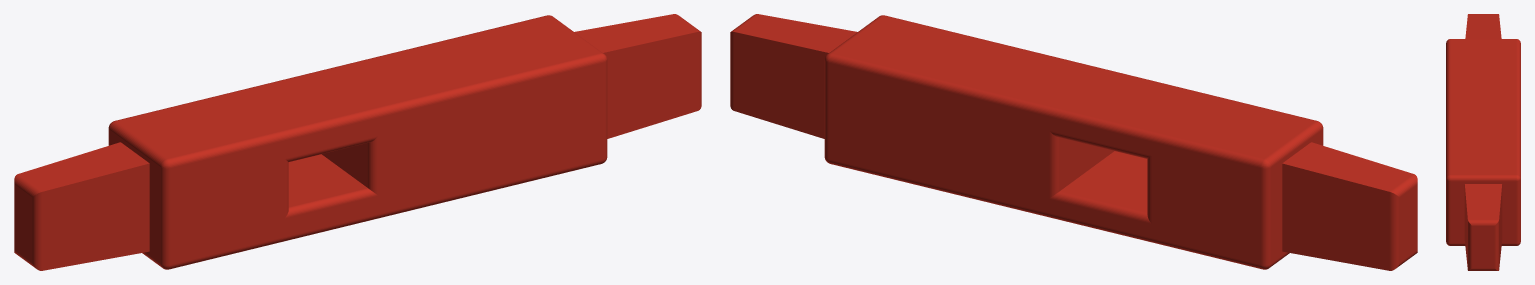
The model's file is beam_3x_part_2.obj.
The picture shows the model from 3 angles, left to right: view 1: azimuth 30°, elevation 25°; view 2: azimuth 150°, elevation 25°; view 3: azimuth 270°, elevation 25°; orthographic projection. The views are drawn at different scales.
Parts seen in each view (by area): view 1: beam_3x_part_2; view 2: beam_3x_part_2; view 3: beam_3x_part_2.
Boxes of the visible parts, x1,y1,x2,y2 form: beam_3x_part_2: (14,14,701,270); beam_3x_part_2: (730,14,1417,270); beam_3x_part_2: (1446,14,1520,270).
Size of the model in its own units: 0.2286 by 0.036 by 0.0345.
